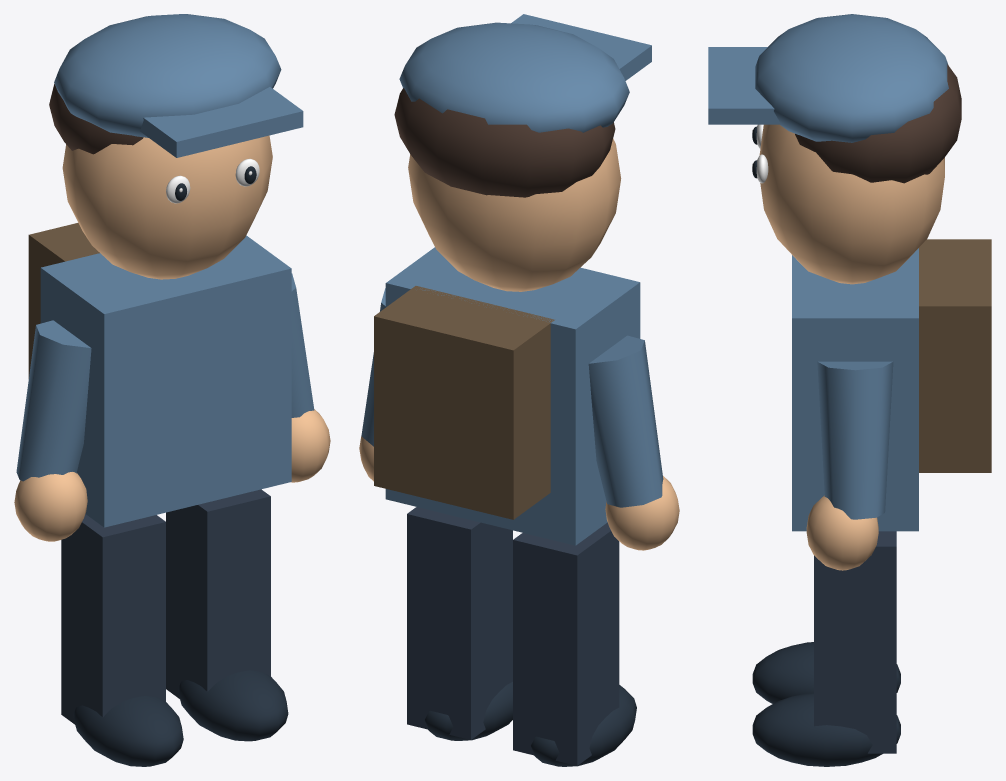
File: traveller.glb
3 views of the same model, side by side, from view 1: azimuth 30°, elevation 25°; view 2: azimuth 150°, elevation 25°; view 3: azimuth 270°, elevation 25° (orthographic).
Parts seen in each view (by area): view 1: traveller; view 2: traveller; view 3: traveller.
Part boxes in pixels (x1,y1,x2,y2): traveller: [14, 14, 330, 766]; traveller: [359, 14, 679, 766]; traveller: [708, 14, 991, 766].
Bounding box in the file's own units: 0.556 × 1.22 × 0.447.
